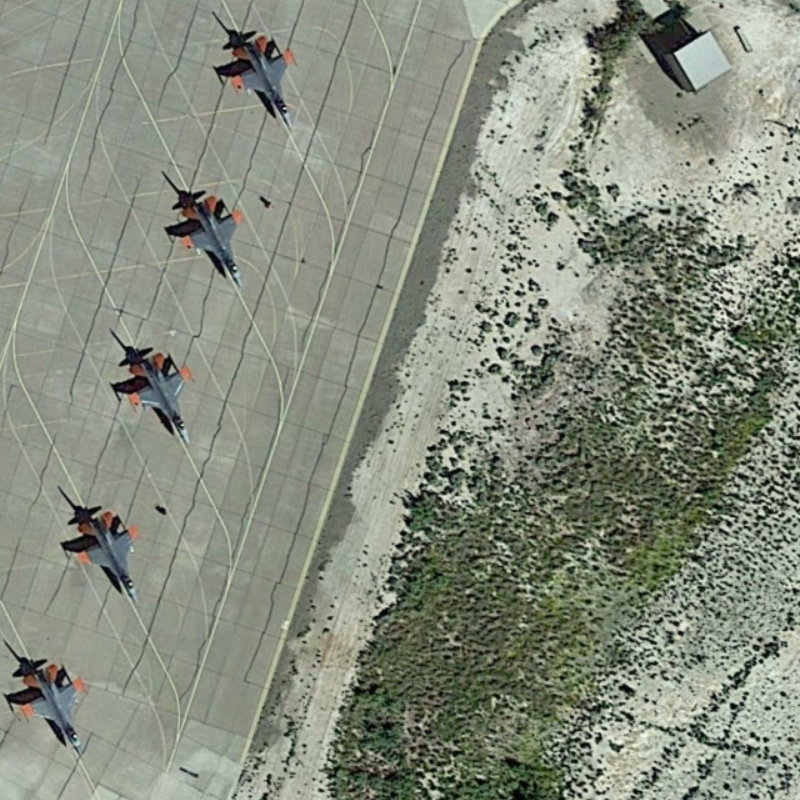A5: (12, 661, 92, 764), (125, 347, 201, 450), (71, 509, 146, 612), (228, 33, 303, 135), (175, 192, 248, 291)
